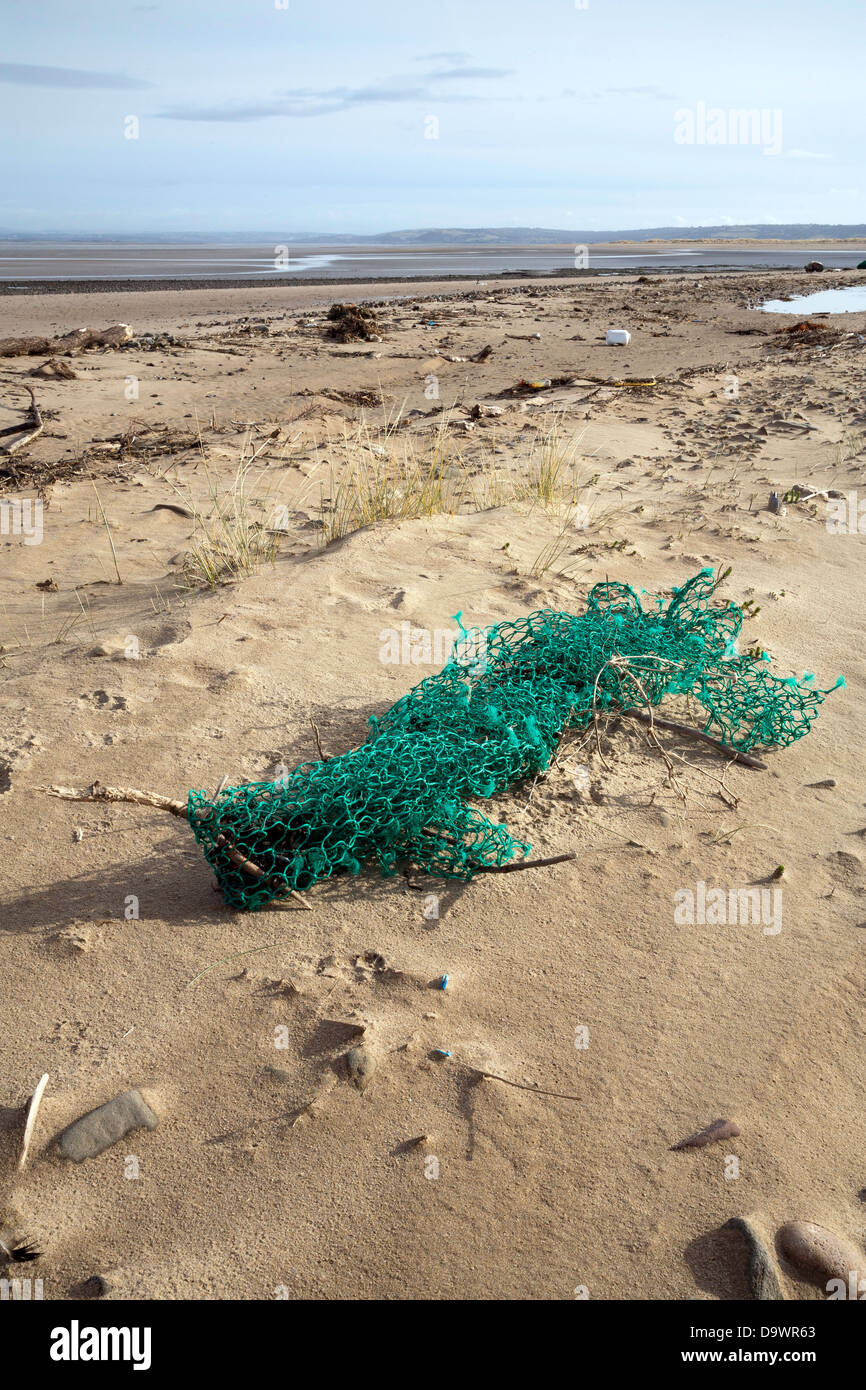fishingnet: (182, 565, 840, 909)
